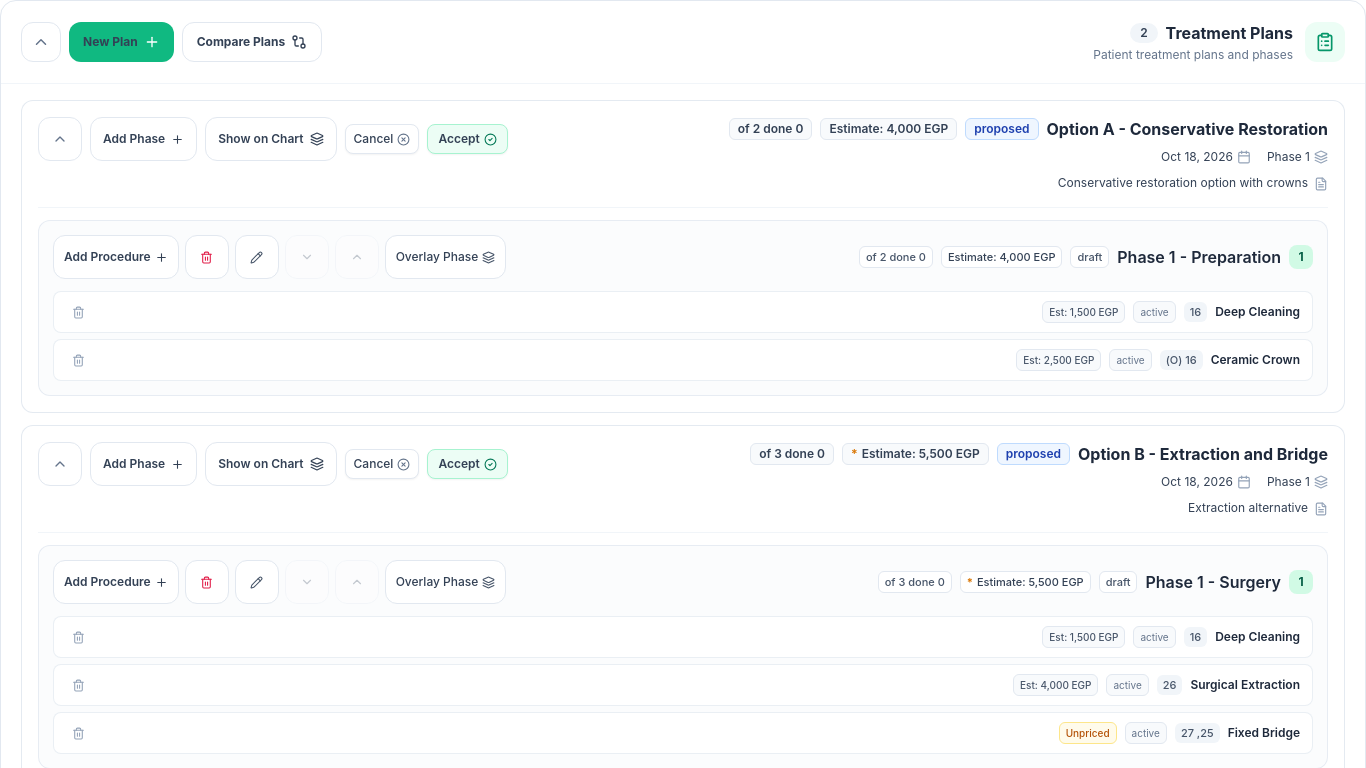
Test: TreatmentPlansCard & Feature Gating › Treatment Plan Comparison UX (G9-M11 / S14) › opens comparison modal and renders side-by-side columns with titles, status badges, phase counts, target teeth, and estimates
# Click Compare Plans button
Click the button with test id "compare-clinical-plans-button".
click(252, 42)  # box [182,22,322,62]
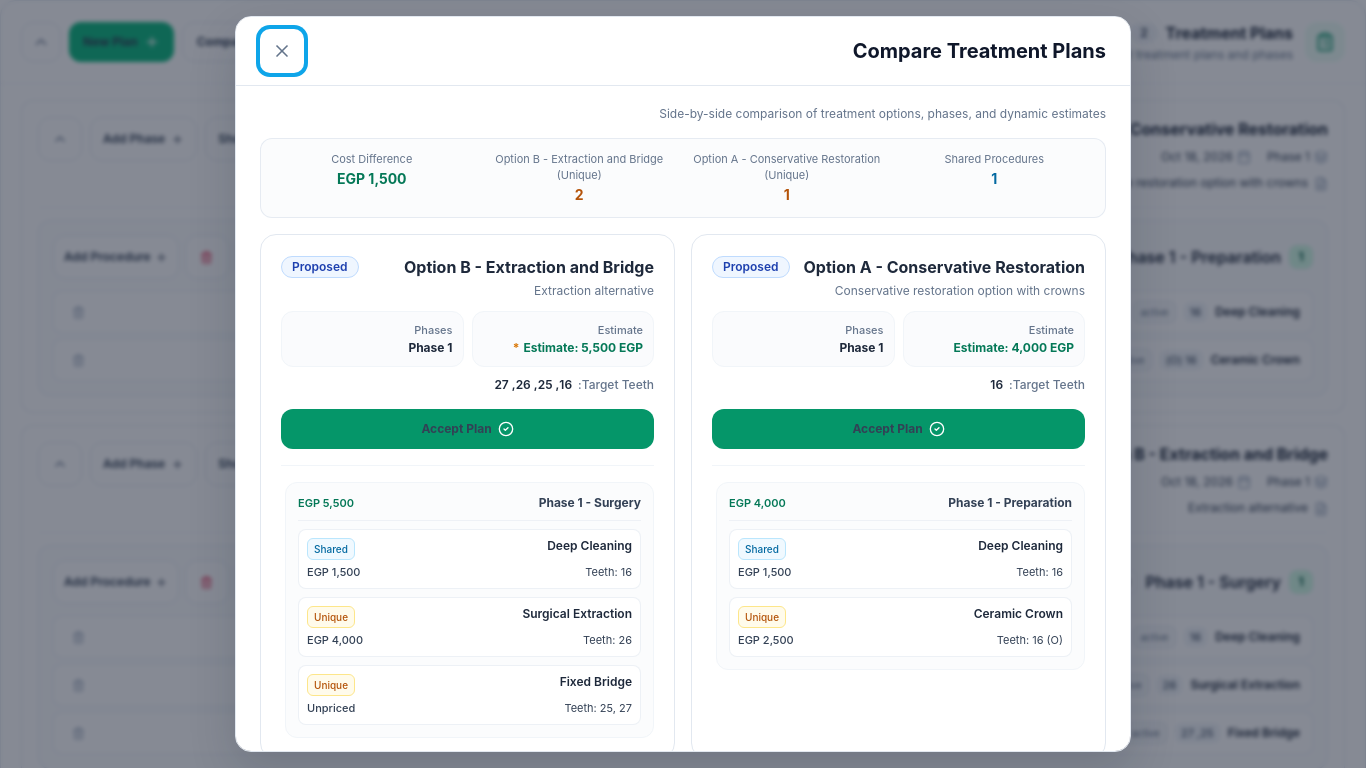
Now the element with test id "compare-clinical-plans-dialog" is shown, box [260,106,1106,752]
Now the heading "Compare Treatment Plans" is shown, box [853,37,1106,65]
Now the element with test id "comparison-column-plan-a" is shown, box [691,234,1106,752]
